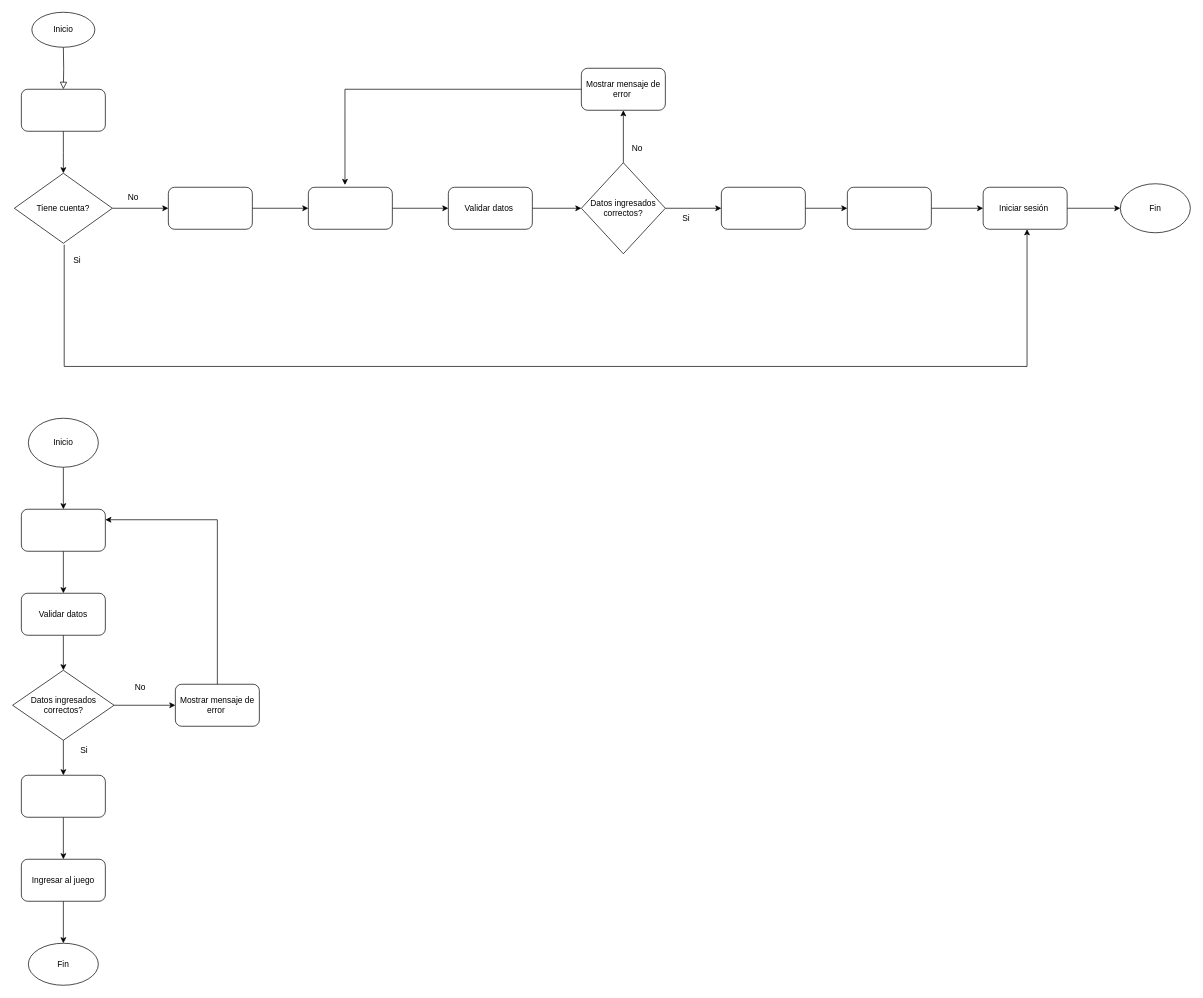
The diagram is 1203 pixels wide and 998 high, and some of its shapes have lost their labels. The shapes that lost their labels are listed below. From the top down, each one's box as (x1, y1, x2, y2) in pixels, then its label:
(21, 89, 105, 131): Mostrar pantalla de inicio
(168, 187, 252, 229): Registrarse
(308, 187, 392, 229): Ingresar datos (nombre de usuario, contraseña)
(721, 187, 805, 229): Guardar usuario en la base de datos
(847, 187, 931, 229): Mostrar mensaje de registro exitoso
(21, 509, 105, 551): Ingresar nombre de usuario y contraseña
(21, 775, 105, 817): Inicio de sesión exitoso
